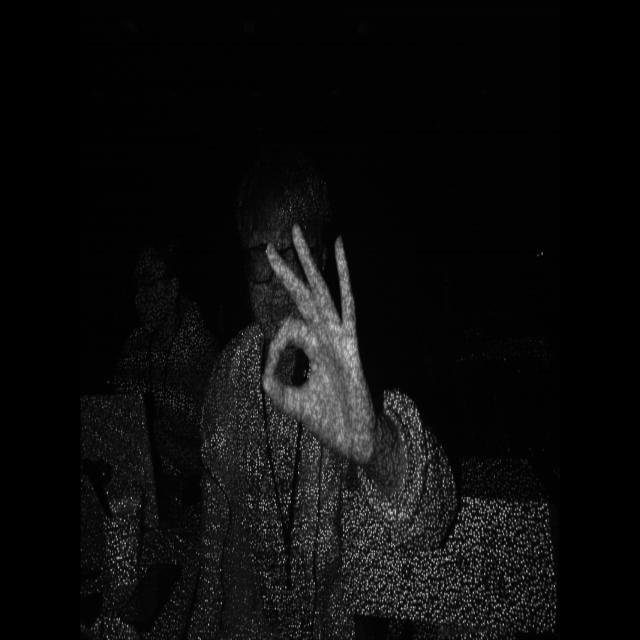F: (248, 204, 390, 496)
